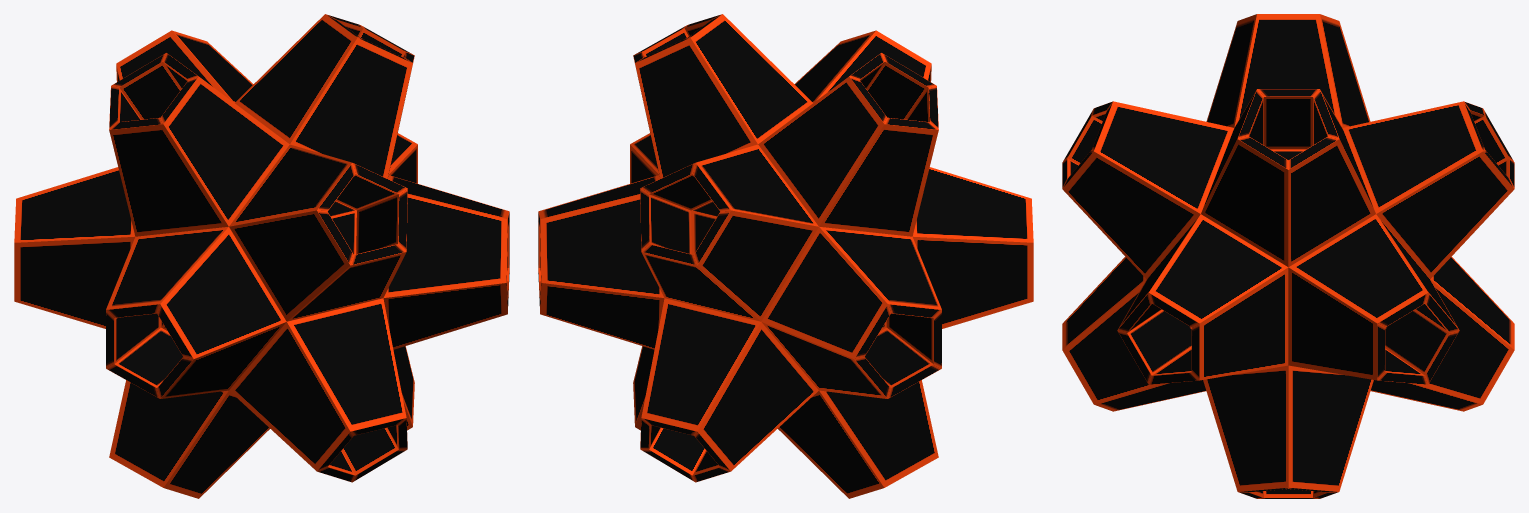
File: DethBall.fbx
3 views of the same model, side by side, from view 1: azimuth 30°, elevation 25°; view 2: azimuth 150°, elevation 25°; view 3: azimuth 270°, elevation 25° (orthographic). The views are drawn at different scales.
Visible parts, largest first — view 1: DethBall1; view 2: DethBall1; view 3: DethBall1.
Part boxes in pixels (x1,y1,x2,y2): DethBall1: [14, 14, 509, 498]; DethBall1: [538, 14, 1033, 498]; DethBall1: [1062, 14, 1514, 498].
Bounding box in the file's own units: 2.98 × 2.98 × 2.98.
Materials: 1 (1 with a texture image).
